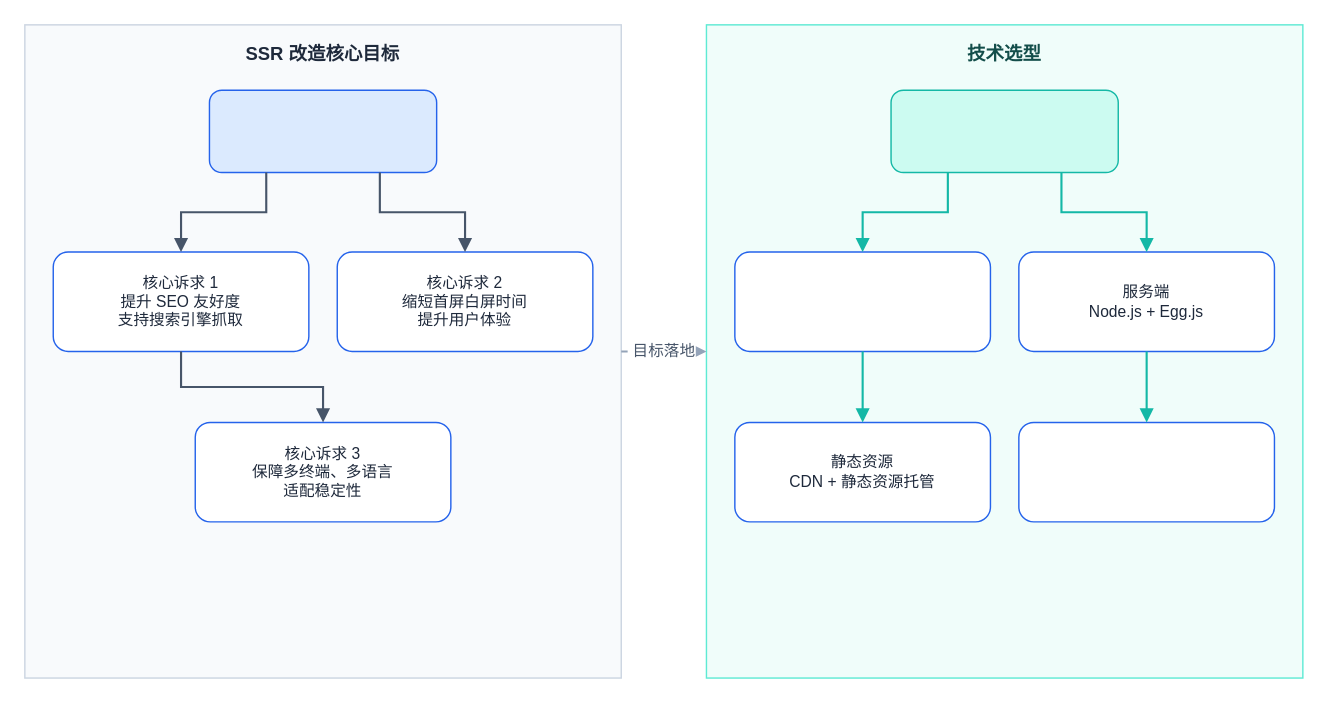
This 1328x703 diagram has some shape labels left out. The shapes that lost their labels are listed below. From the top down, each one's centre as x and y in pixels, then its label:
(x=322, y=131): SSR 改造 核心目标
(x=1004, y=131): 技术选型 落地方案
(x=861, y=301): 前端框架 Nuxt.js 3 + Vue3 + TypeScript
(x=1145, y=471): 缓存 Node 缓存 + Redis 分布式缓存
